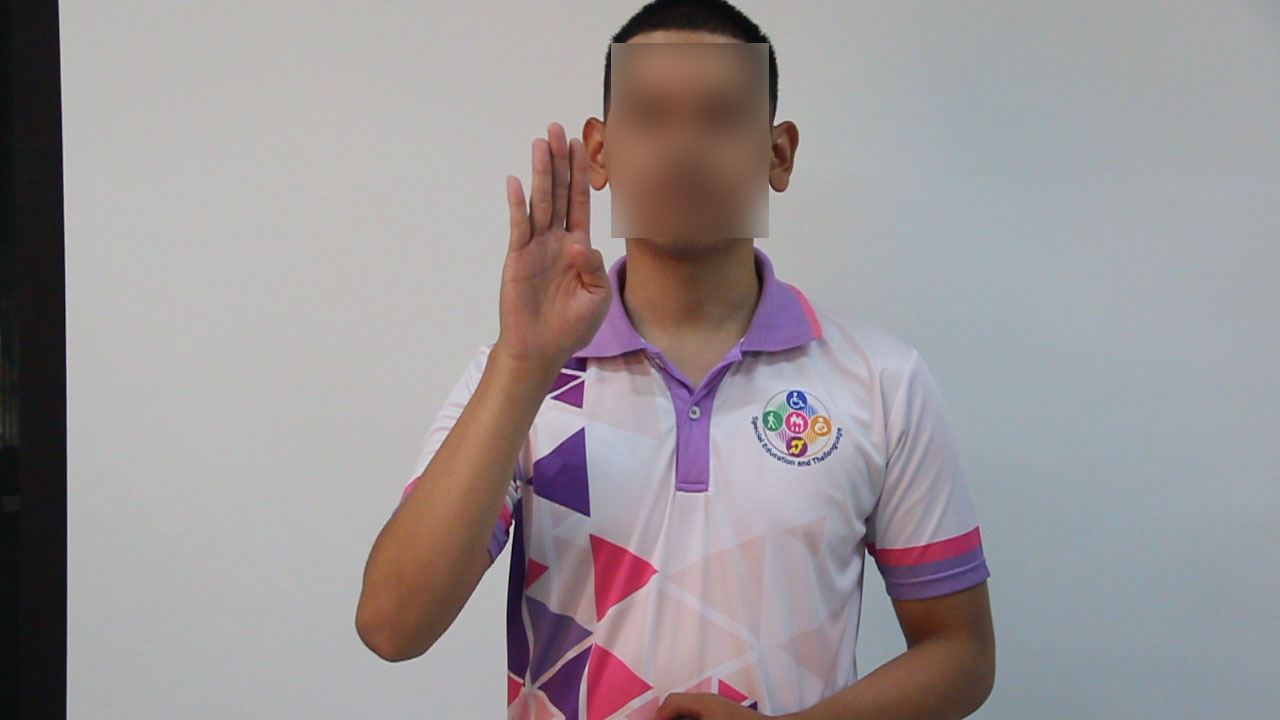bor: (479, 106, 630, 403)
